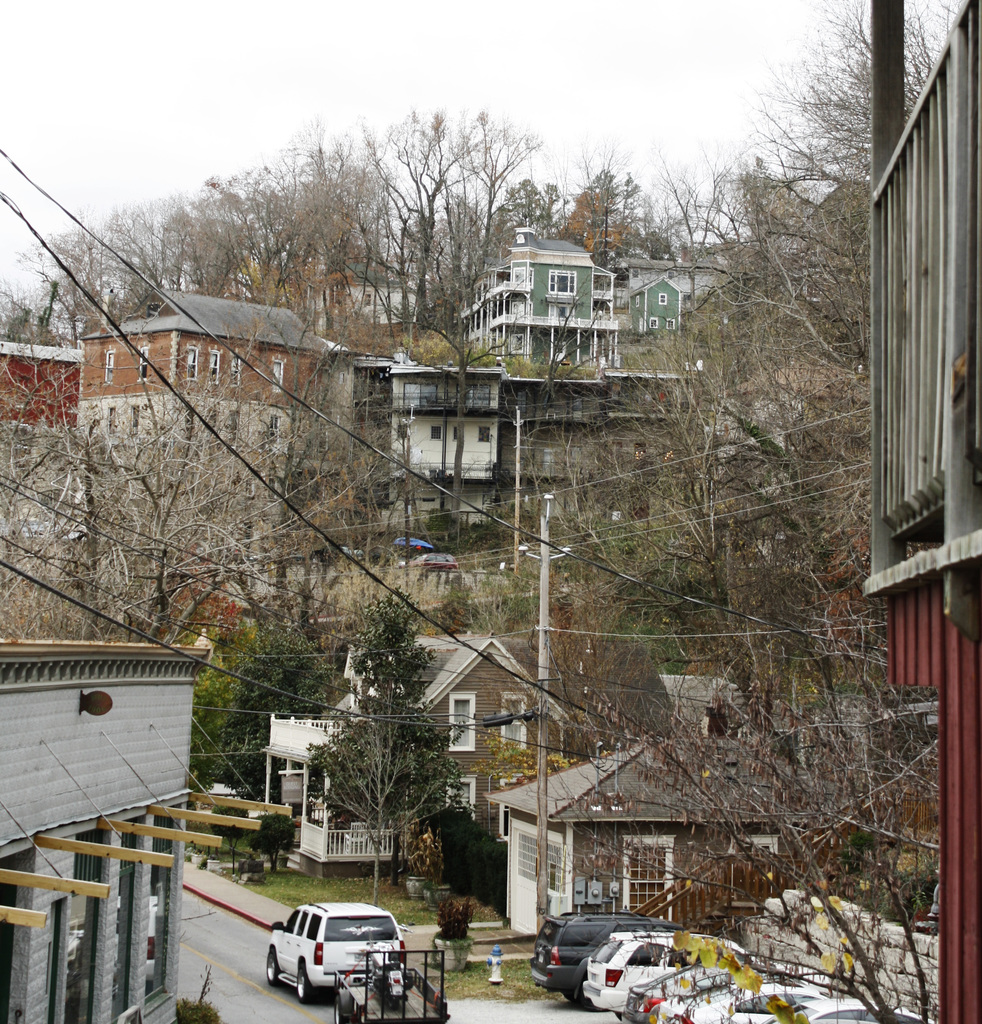mobil: (265, 894, 402, 1005)
